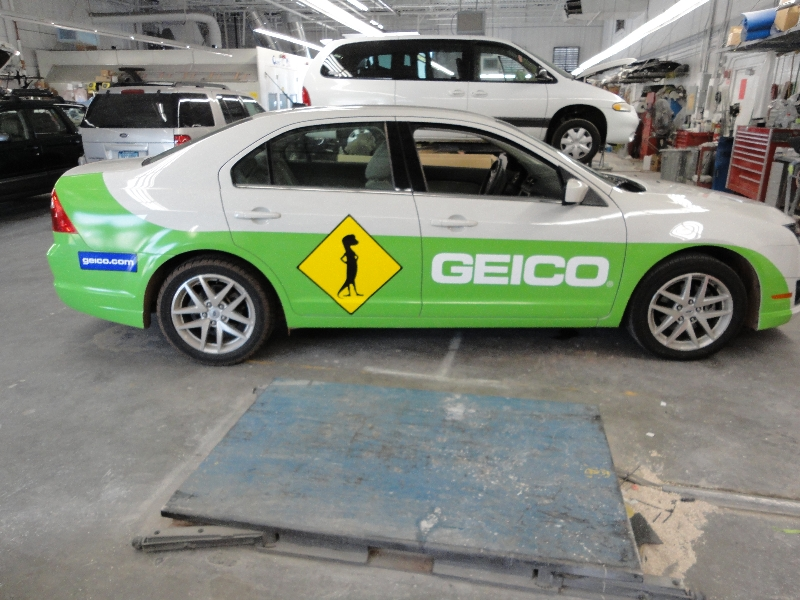geico: (429, 245, 621, 295)
